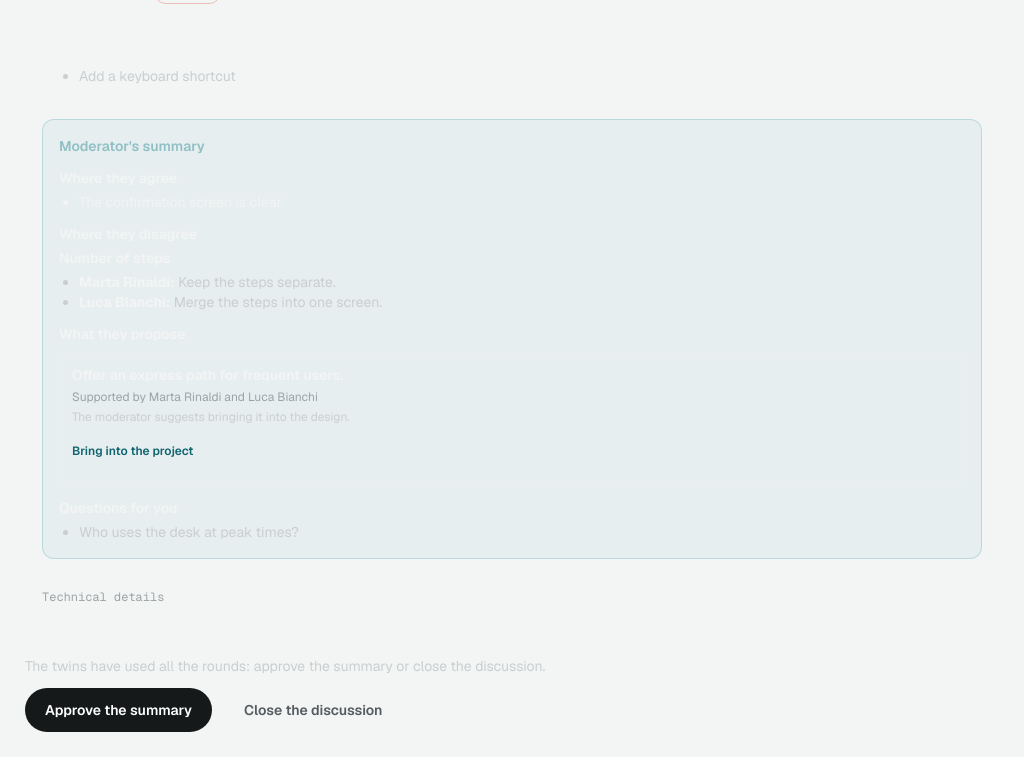
ProjectDesignDiscussionPanel › closes a discussion that used all its rounds
(page scrolled)
Check: the text with test id "discussion-full" shows "used all the rounds", box [25, 657, 545, 675]
Click the button with test id "discussion-close" at (313, 710), box [224, 688, 403, 732]
(page scrolled)
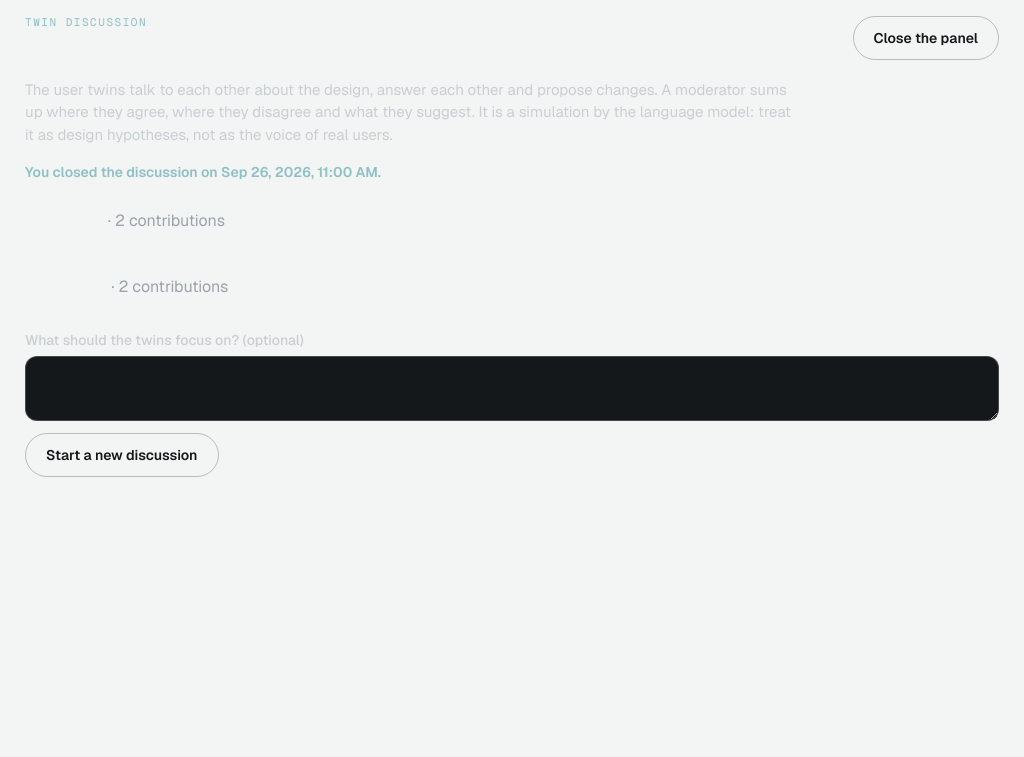
Check: the text with test id "discussion-status" shows "You closed the discussion", box [25, 163, 381, 181]
